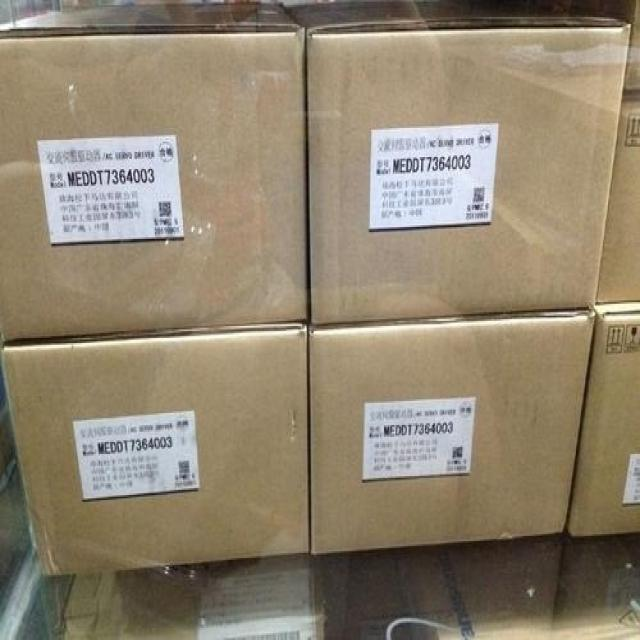box: (287, 3, 631, 328), (1, 3, 307, 345), (2, 323, 310, 577), (311, 309, 593, 553), (565, 302, 639, 536), (597, 2, 639, 305)
